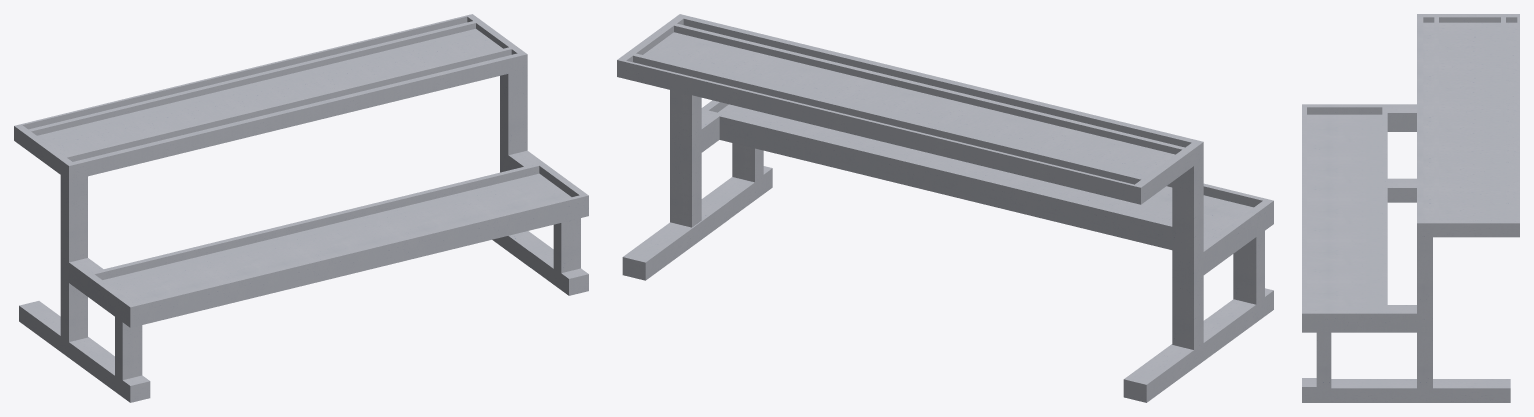
The model's file is StandBarbell.FBX.
The picture shows the model from 3 angles, left to right: view 1: azimuth 30°, elevation 25°; view 2: azimuth 150°, elevation 25°; view 3: azimuth 270°, elevation 25°; orthographic projection. The views are drawn at different scales.
Visible parts, largest first — view 1: StandBarbell; view 2: StandBarbell; view 3: StandBarbell.
Part boxes in pixels (<box>): StandBarbell: <box>14,14,588,402</box>; StandBarbell: <box>617,14,1273,402</box>; StandBarbell: <box>1302,14,1519,402</box>.
Bounding box in the file's own units: 2100 × 840 × 923.
